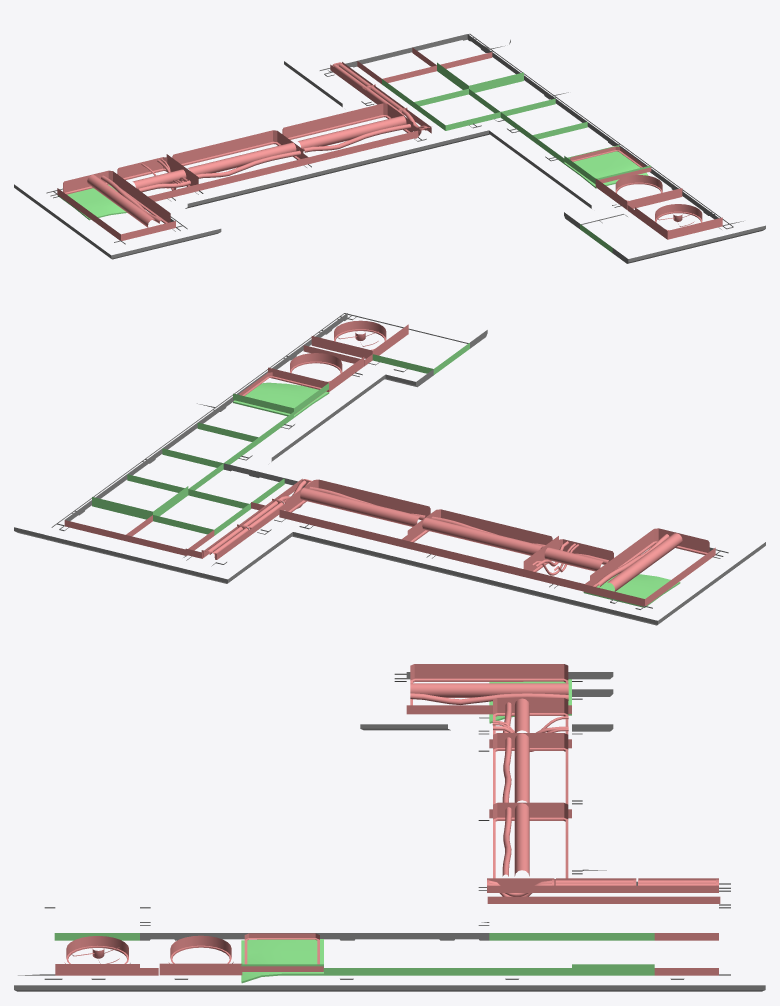
File: S_Envi_Olgk_Common_Roof_01b_Merge.gltf
3 views of the same model, one above another, from view 1: azimuth 30°, elevation 25°; view 2: azimuth 150°, elevation 25°; view 3: azimuth 270°, elevation 25° (orthographic). The views are drawn at different scales.
Parts seen in each view (by area): view 1: S_Envi_Olgk_Common_Roof_01b_Merge; view 2: S_Envi_Olgk_Common_Roof_01b_Merge; view 3: S_Envi_Olgk_Common_Roof_01b_Merge.
Part boxes in pixels (x1=…): S_Envi_Olgk_Common_Roof_01b_Merge: x1=14, y1=33, x2=765, y2=263; S_Envi_Olgk_Common_Roof_01b_Merge: x1=14, y1=313, x2=765, y2=625; S_Envi_Olgk_Common_Roof_01b_Merge: x1=14, y1=664, x2=765, y2=991.
Bounding box in the file's own units: 18.95 × 0.7962 × 18.19.
